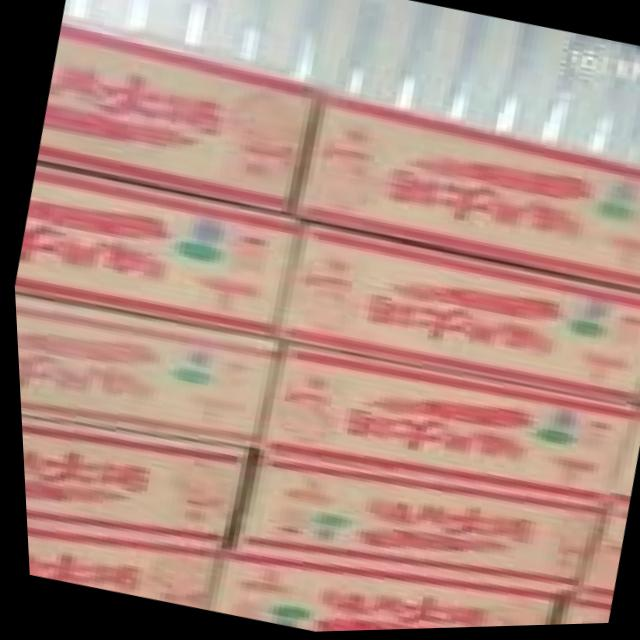box: (297, 88, 640, 295), (275, 225, 640, 412), (256, 342, 630, 514), (35, 14, 322, 215), (224, 455, 593, 603), (12, 159, 303, 344), (12, 298, 273, 451), (17, 418, 252, 558), (203, 559, 547, 633), (22, 532, 215, 608), (558, 512, 617, 607), (549, 607, 599, 628)
